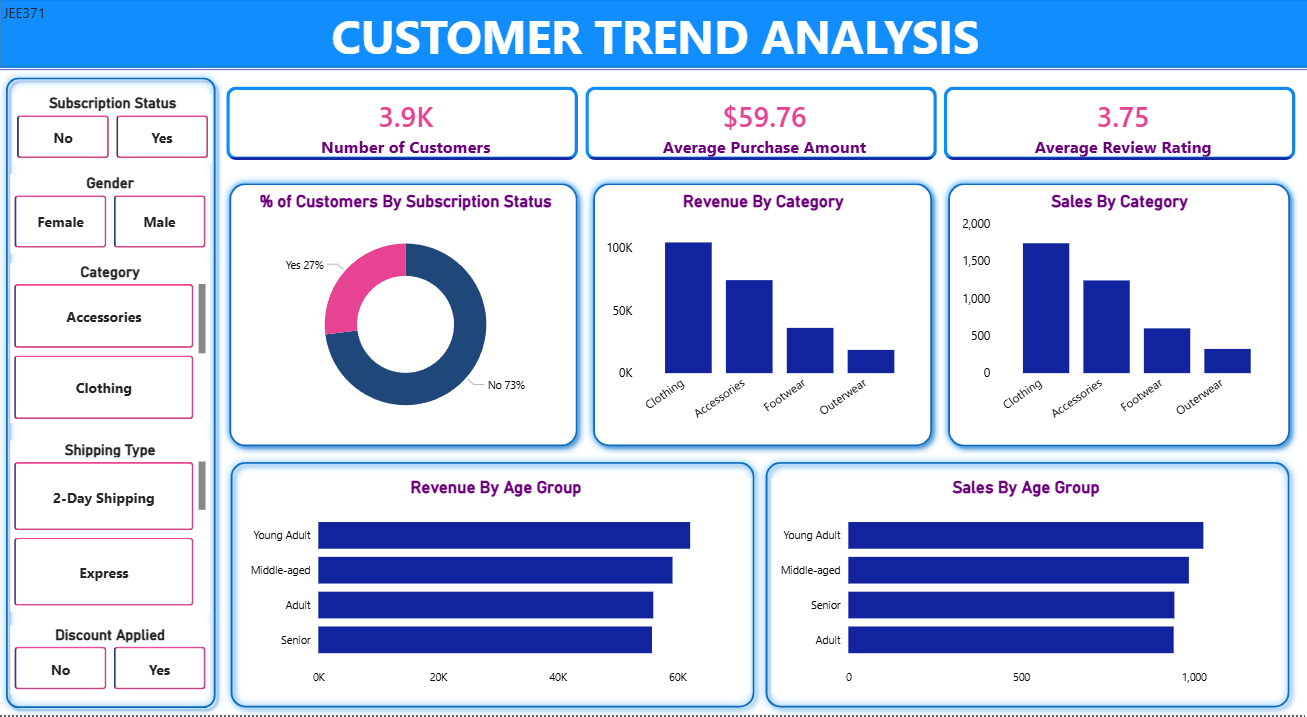

This screenshot's page, from the dashboard's own definition file:
{"tool":"powerbi","page":{"name":"Page 1","canvas":[1500,820],"ordinal":0},"visuals":[{"type":"cardVisual","fields":{"Data":["customer_data.Number of Customers","customer_data.Average Purchase Amount","customer_data.Average Review Rating"]},"box":[242.8,83.6,1257.5,119],"z":0},{"type":"shape","box":[0,0,1500.3,82],"z":1000},{"type":"textbox","box":[0,1.6,1500.3,82],"z":2000},{"type":"shape","box":[670.6,202.6,405.2,318.4],"z":3000},{"type":"shape","box":[254.3,202.9,415.7,318.6],"z":3000,"group":"g1"},{"type":"group","id":"g1","title":"Group 1","box":[254.3,202.9,415.7,318.6],"z":4000},{"type":"donutChart","title":"% of Customers By Subscription Status","fields":{"Category":["customer_data.subscription_status"],"Y":["CountNonNull(customer_data.customer_id)"]},"box":[275.3,221.2,378.2,281.9],"z":4000,"group":"g1"},{"type":"shape","box":[1075,202.5,408.8,318.8],"z":5000},{"type":"clusteredColumnChart","title":"Revenue By Category","fields":{"Y":["Sum(customer_data.purchase_amount_usd)"],"Category":["customer_data.category"]},"box":[688.8,221.2,370,282.5],"z":6000},{"type":"clusteredColumnChart","title":"Sales By Category","fields":{"Category":["customer_data.category"],"Y":["CountNonNull(customer_data.customer_id)"]},"box":[1095,221.2,370,282.5],"z":7000},{"type":"shape","box":[0,83.3,255.6,736.7],"z":8000},{"type":"advancedSlicerVisual","title":"Subscription Status","fields":{"Values":["customer_data.subscription_status"]},"box":[15,110,228.3,78.3],"z":9000},{"type":"advancedSlicerVisual","title":"Gender","fields":{"Values":["customer_data.gender"]},"box":[13.3,201.7,228.3,90],"z":10000},{"type":"advancedSlicerVisual","title":"Category","fields":{"Values":["customer_data.category"]},"box":[13.3,303.3,228.3,183.3],"z":11000},{"type":"shape","box":[255,521.7,616.7,298.3],"z":12000},{"type":"shape","box":[866.7,521.7,616.7,298.3],"z":13000},{"type":"clusteredBarChart","title":"Sales By Age Group","fields":{"Category":["customer_data.age_group"],"Y":["CountNonNull(customer_data.customer_id)"]},"box":[883.3,548.3,581.7,246.7],"z":14000},{"type":"advancedSlicerVisual","title":"Shipping Type","fields":{"Values":["customer_data.shipping_type"]},"box":[13.3,505,228.3,195],"z":15000},{"type":"advancedSlicerVisual","title":"Discount Applied","fields":{"Values":["customer_data.discount_applied"]},"box":[13.3,716.7,228.3,78.3],"z":16000},{"type":"clusteredBarChart","title":"Revenue By Age Group","fields":{"Y":["Sum(customer_data.purchase_amount_usd)"],"Category":["customer_data.age_group"]},"box":[276.7,548.3,581.7,246.7],"z":17000},{"type":"textbox","box":[0,0,69.1,41.8],"z":17001}]}

Visuals, with their boxes in screenshot pixels (x1, y1, x2, y2), scaled from the page's 1500x820 canvas onto the 1307x717 screenshot:
cardVisual - customer_data.Number of Customers x customer_data.Average Purchase Amount: 212/73/1306/177
shape: 0/0/1306/72
textbox: 0/1/1306/73
shape: 584/177/937/456
shape: 222/177/584/456
"Group 1" group: 222/177/584/456
"% of Customers By Subscription Status" donutChart: 240/193/569/440
shape: 937/177/1293/456
"Revenue By Category" clusteredColumnChart: 600/193/923/440
"Sales By Category" clusteredColumnChart: 954/193/1277/440
shape: 0/73/223/716
"Subscription Status" advancedSlicerVisual: 13/96/212/165
"Gender" advancedSlicerVisual: 12/176/211/255
"Category" advancedSlicerVisual: 12/265/211/425
shape: 222/456/760/716
shape: 755/456/1293/716
"Sales By Age Group" clusteredBarChart: 770/479/1277/695
"Shipping Type" advancedSlicerVisual: 12/442/211/612
"Discount Applied" advancedSlicerVisual: 12/627/211/695
"Revenue By Age Group" clusteredBarChart: 241/479/748/695
textbox: 0/0/60/37
